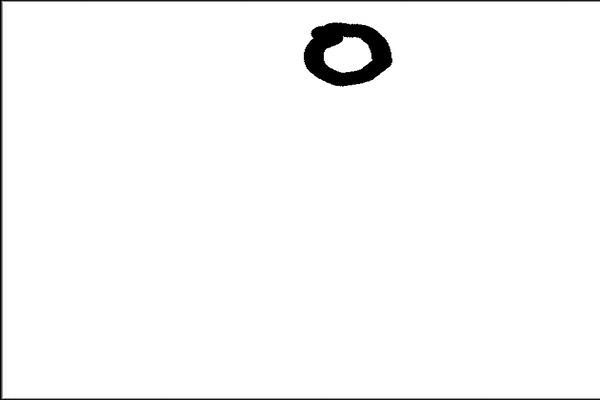O: (295, 13, 400, 97)
